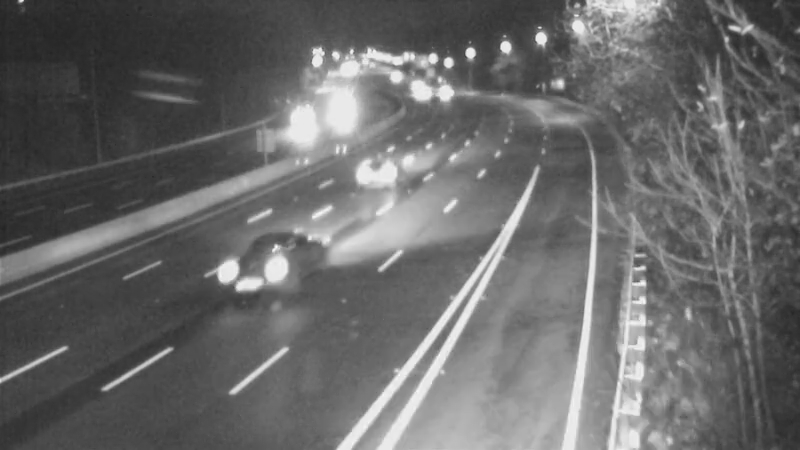vehicle: (334, 136, 414, 216), (227, 230, 307, 310), (369, 50, 419, 100), (387, 61, 437, 111), (425, 68, 475, 118), (391, 66, 441, 116), (279, 100, 329, 150), (315, 84, 365, 134)
